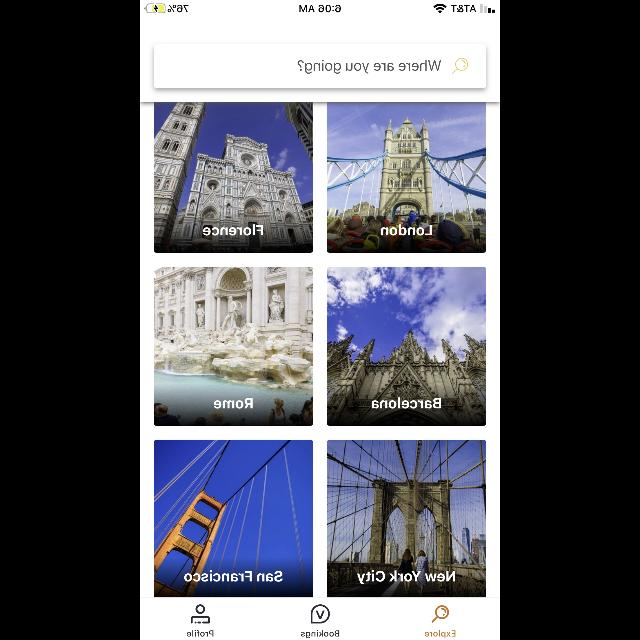icon: (190, 604, 210, 624), (432, 606, 448, 622), (452, 58, 468, 74)
image: (326, 440, 486, 598), (154, 266, 312, 426), (154, 440, 312, 598), (327, 267, 485, 425), (326, 103, 486, 253), (154, 103, 312, 253), (310, 604, 330, 624)
input: (154, 46, 486, 88)
text: (298, 60, 440, 74), (357, 570, 455, 584), (184, 570, 282, 582), (203, 224, 263, 236), (372, 398, 441, 408), (381, 224, 432, 236), (214, 398, 252, 408), (301, 630, 339, 638), (424, 630, 456, 638), (187, 630, 213, 636)
uppertaskbar: (140, 0, 500, 14)
